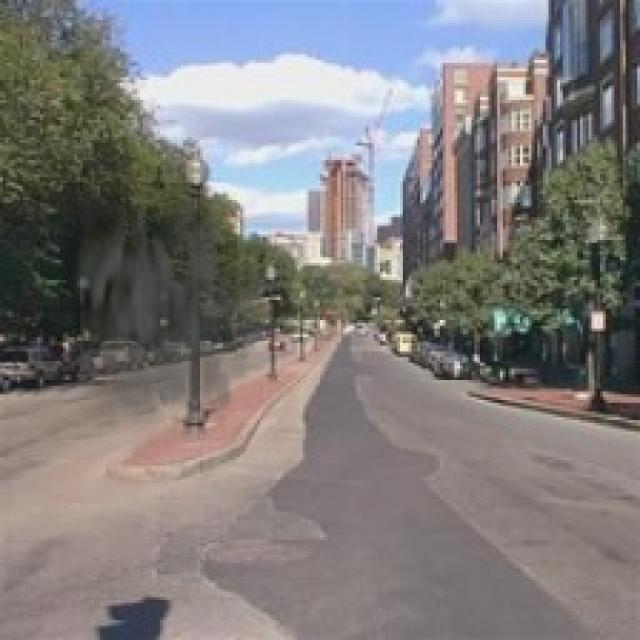Smoke: (57, 182, 266, 454)
